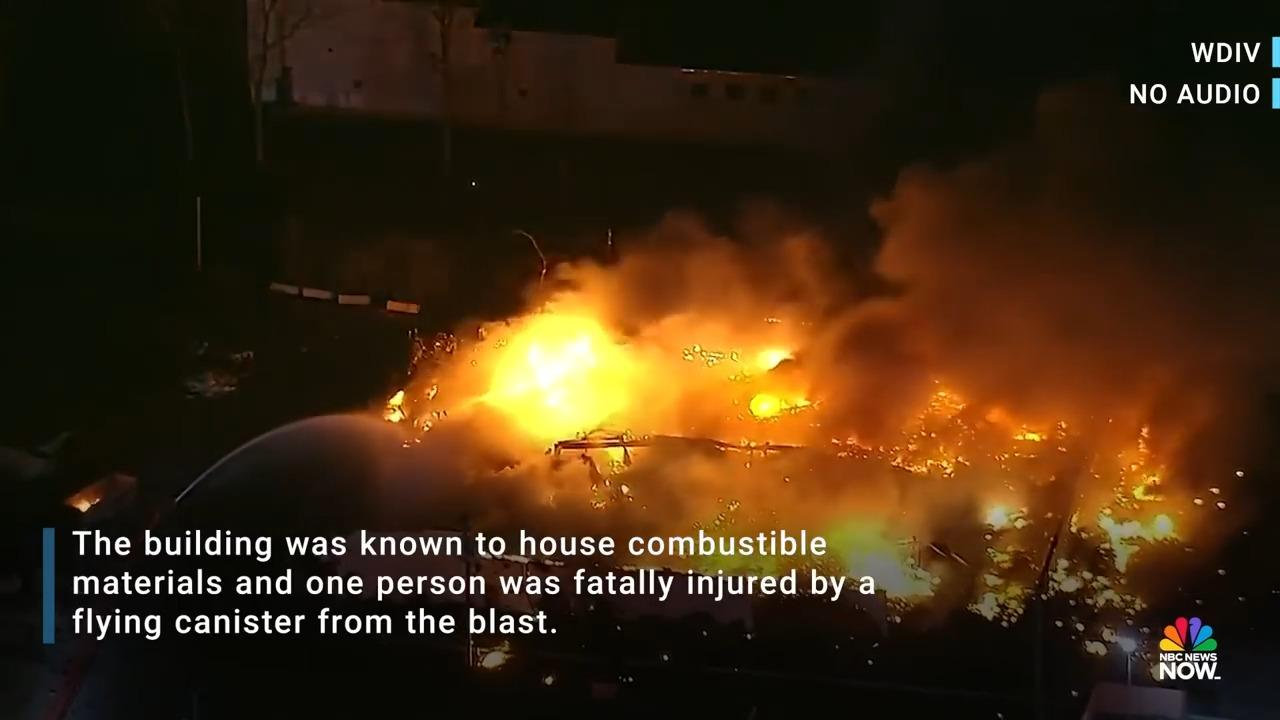fire: (901, 381, 1193, 550), (666, 317, 872, 447), (470, 317, 653, 448), (579, 456, 899, 527), (853, 536, 1033, 609), (54, 470, 140, 515)
